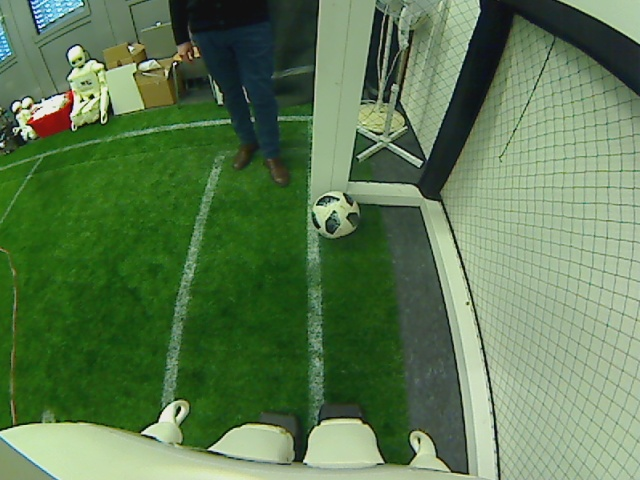ball: (314, 188, 360, 238)
